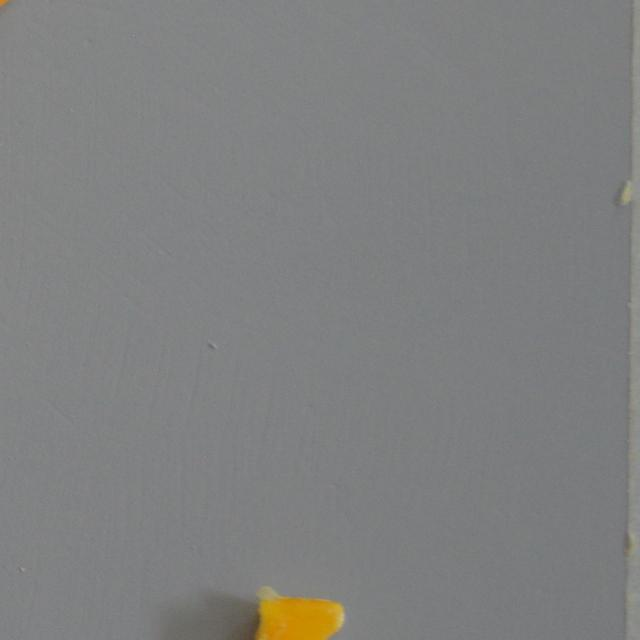pelicula: (239, 584, 353, 640)
